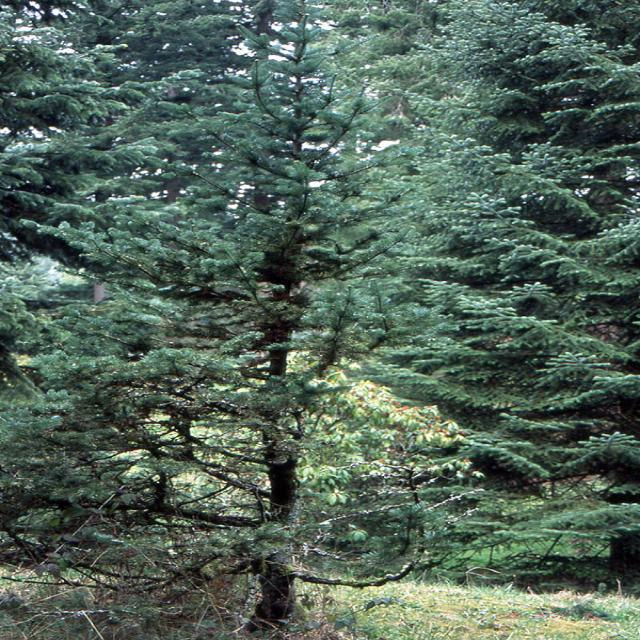Abies: (33, 0, 561, 626)
